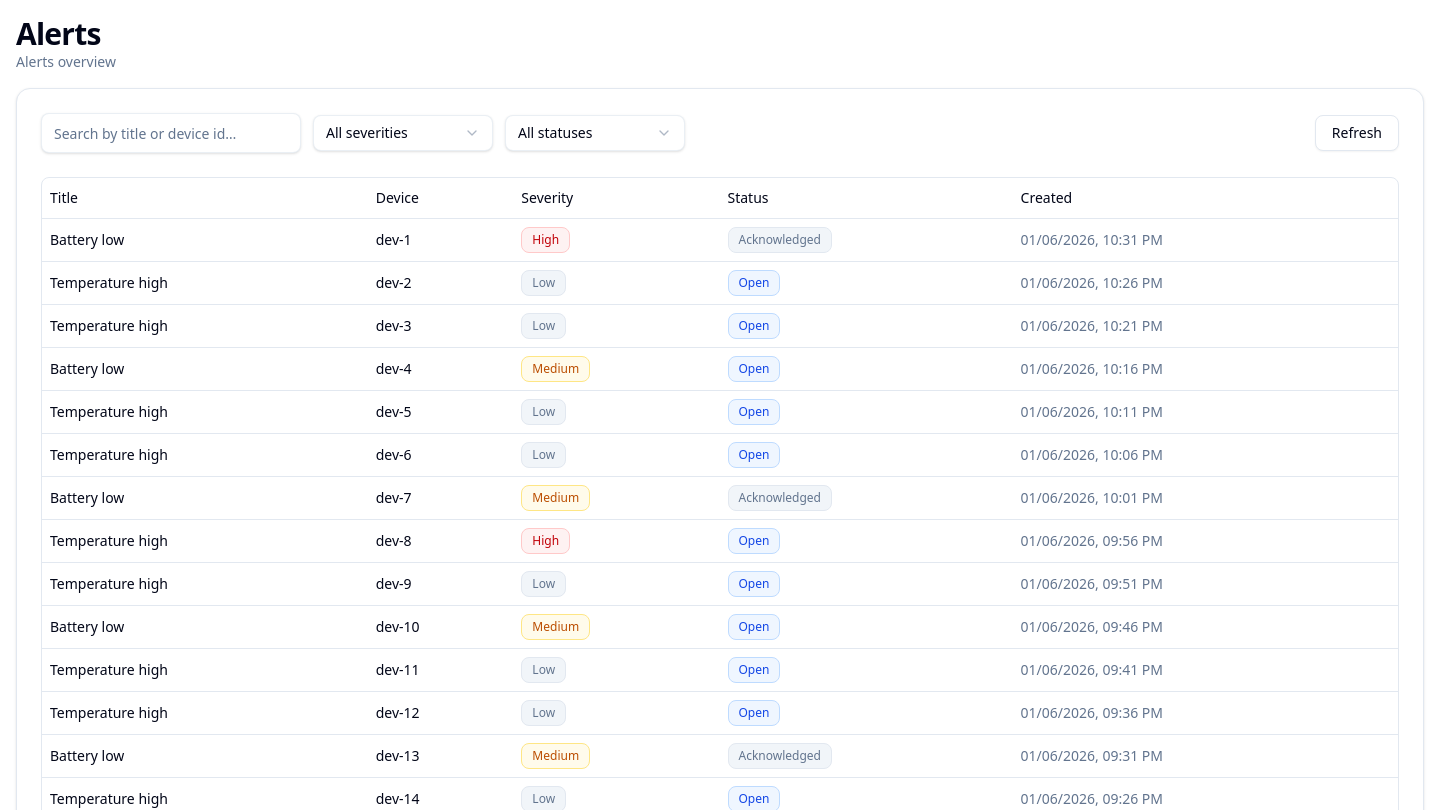
Test: filter by severity = High shows only High severity and does not increase results
Open severity filter and choose High
Click the dropdown named "filter by severity": (403, 133) [313,115,493,151]
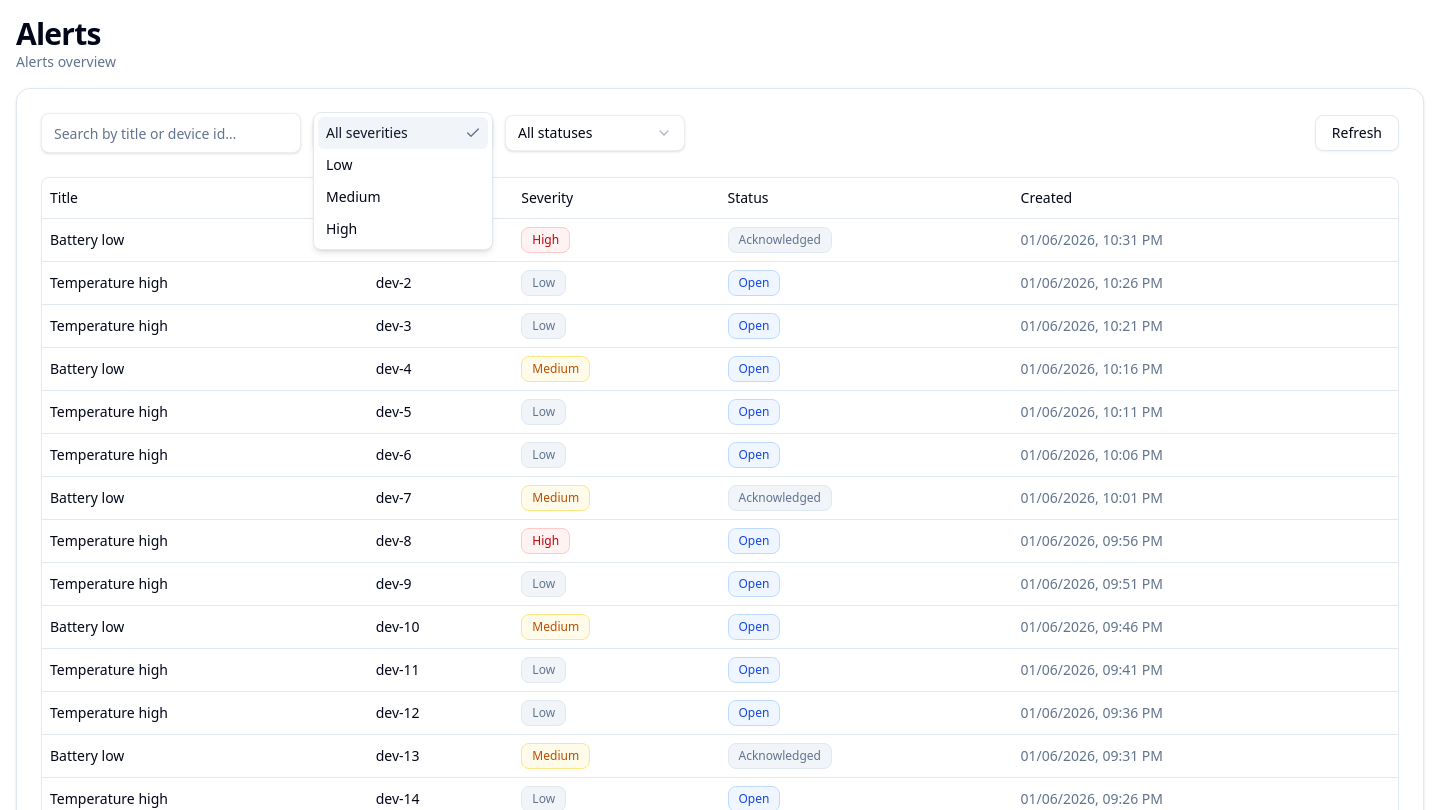
Click the option "High": (342, 228) [326,219,357,238]
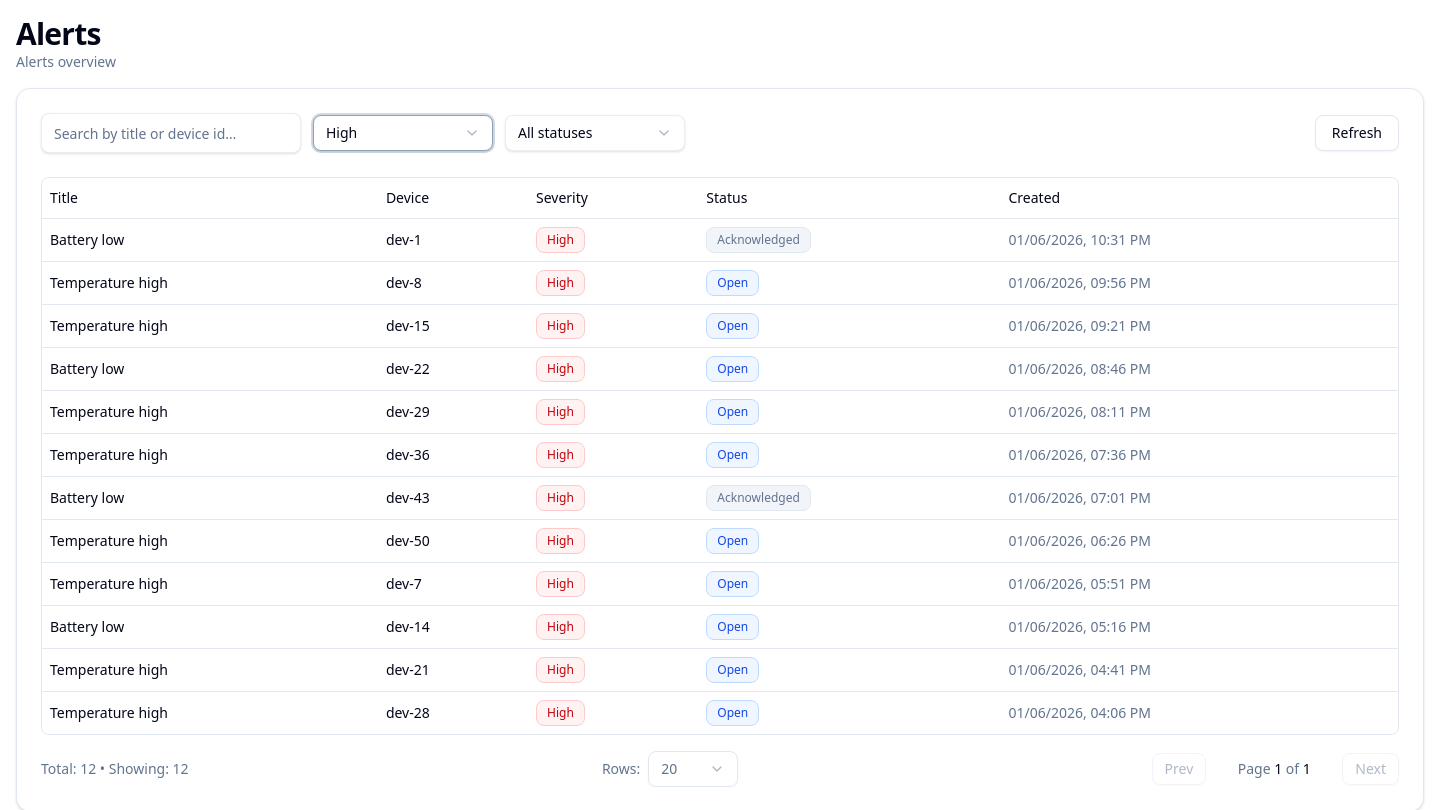
Check: the text "High" next to "dev-22" is shown, box [547,360,574,376]
Check: the text "High" next to "dev-29" is shown, box [547,402,574,420]
Check: the text "High" next to "dev-36" is shown, box [547,446,574,462]
